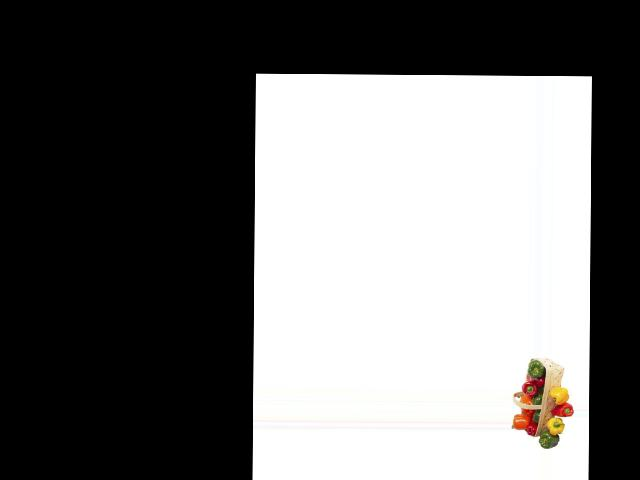bell_pepper: (527, 360, 544, 380)
